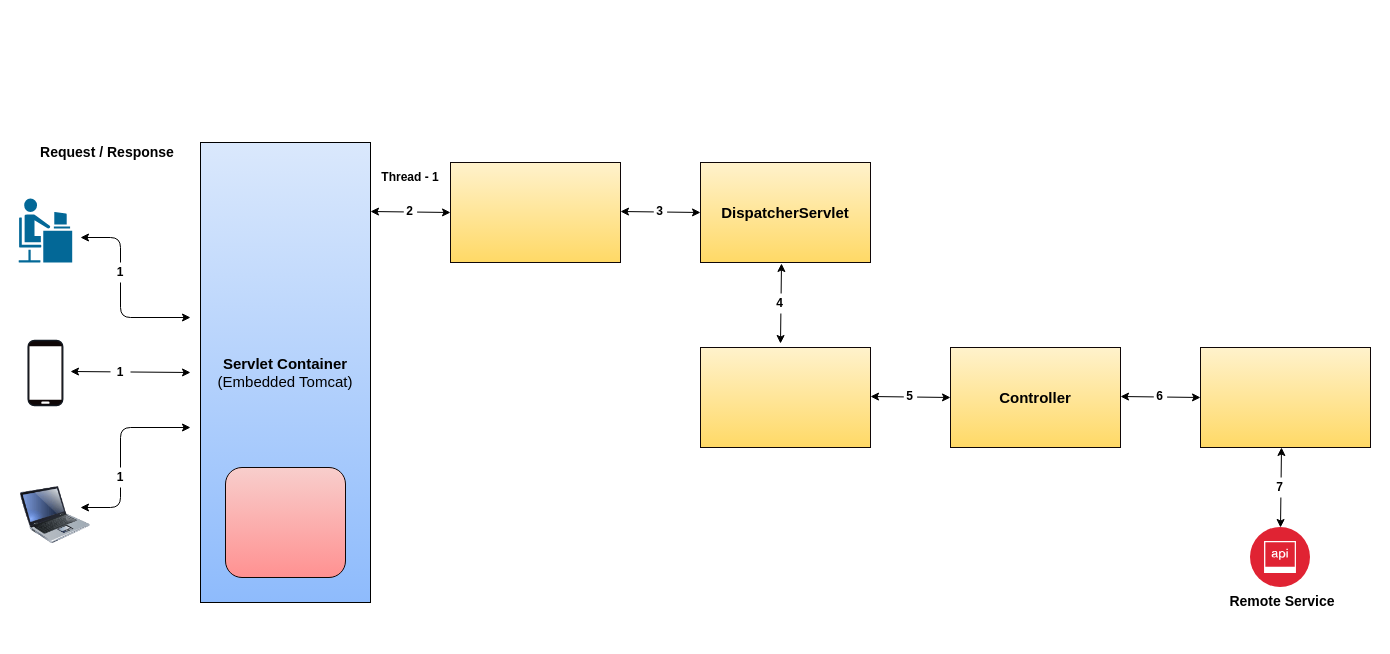
The diagram is 1390 pixels wide and 654 high, and some of its shapes have lost their labels. The shapes that lost their labels are listed below. From the top down, each one's centre as x and y in pixels, then its label:
At pixel 535 212: "Filter".
At pixel 785 397: "RequestMapping HandlerMapping".
At pixel 1285 397: "Service (Optional)".
At pixel 285 522: "Thread Pool".
